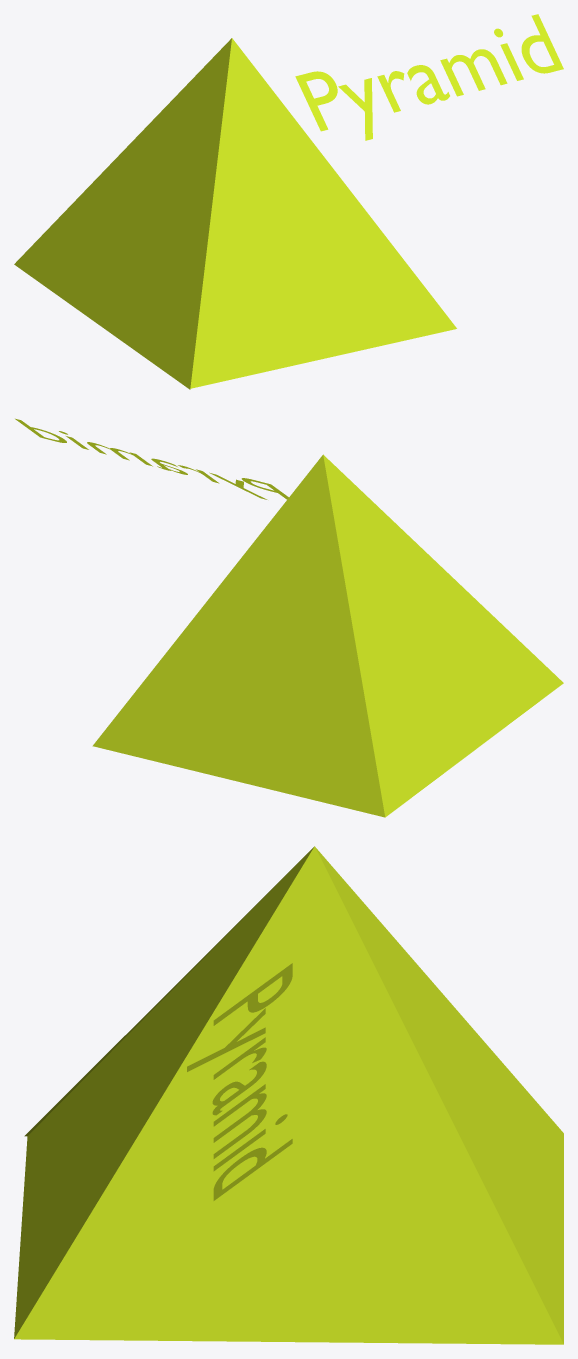
Rendered from pyramidtext.gltf.
3 renders of one model, top to bottom at view 1: azimuth 30°, elevation 25°; view 2: azimuth 150°, elevation 25°; view 3: azimuth 270°, elevation 25°, orthographic. The views are drawn at different scales.
Parts seen in each view (by area): view 1: Circle, Text; view 2: Circle, Text; view 3: Circle, Text.
Part boxes in pixels (x1=…): Circle: x1=14, y1=38, x2=456, y2=389; Text: x1=295, y1=14, x2=563, y2=140; Circle: x1=92, y1=454, x2=563, y2=817; Text: x1=15, y1=418, x2=288, y2=499; Circle: x1=14, y1=846, x2=563, y2=1344; Text: x1=187, y1=963, x2=292, y2=1200.
Size of the model in its own units: 237 by 131 by 165.
